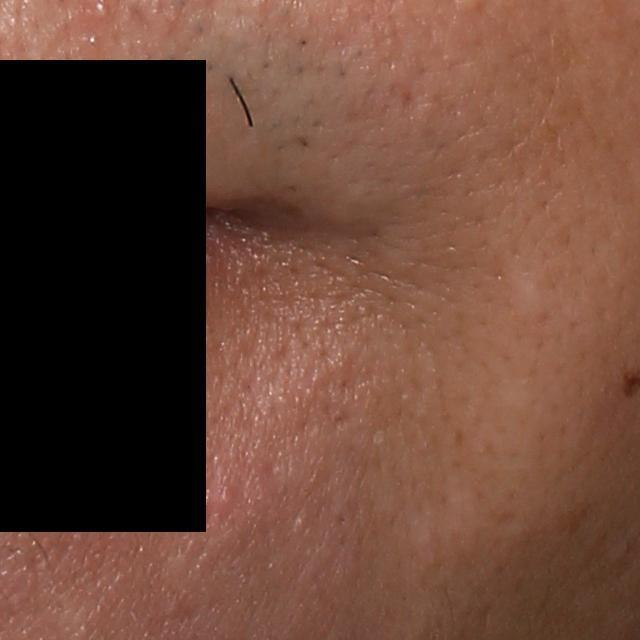hypertrophic_scar: (499, 256, 560, 320)
